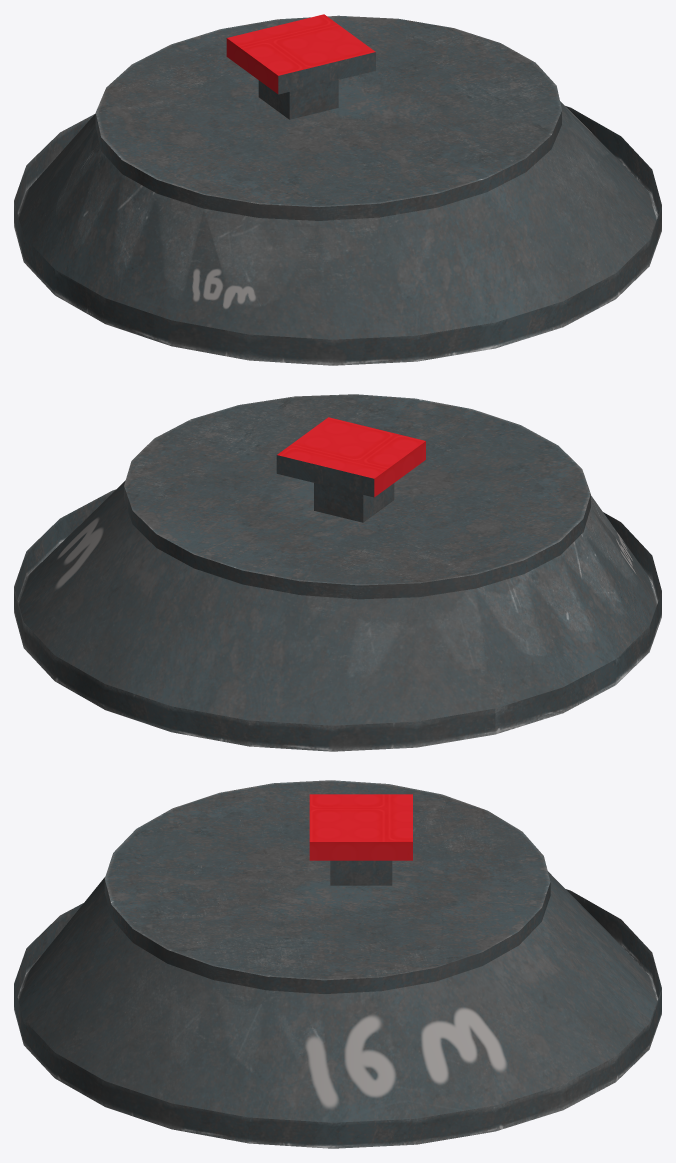
Rendered from ground mine.fbx.
The picture shows the model from 3 angles, top to bottom: view 1: azimuth 30°, elevation 25°; view 2: azimuth 150°, elevation 25°; view 3: azimuth 270°, elevation 25°; orthographic projection.
Visible parts, largest first — view 1: Mesh1; view 2: Mesh1; view 3: Mesh1.
Part boxes in pixels (bbox=[...]): Mesh1: bbox=[14, 14, 661, 365]; Mesh1: bbox=[14, 394, 661, 751]; Mesh1: bbox=[14, 780, 661, 1148].
Size of the model in its own units: 7.84 by 2.42 by 7.84.
